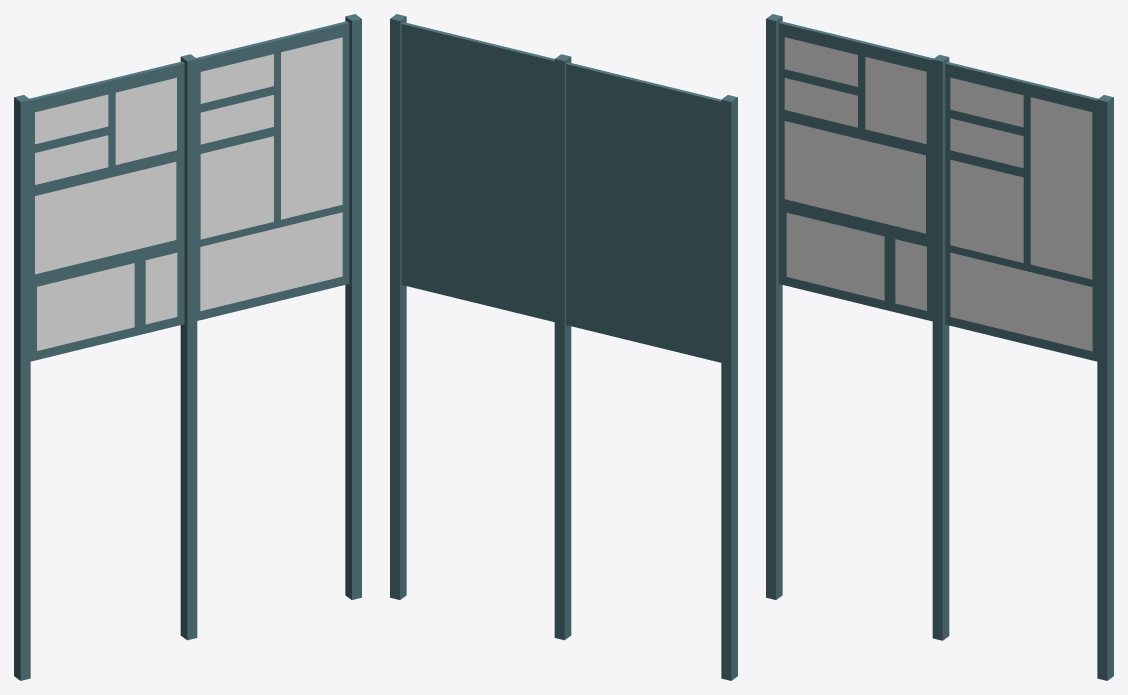
Rendered from Stand.obj.
3 renders of one model, left to right at view 1: azimuth 30°, elevation 25°; view 2: azimuth 150°, elevation 25°; view 3: azimuth 330°, elevation 25°, orthographic.
Visible parts, largest first — view 1: SM_Stand_01; view 2: SM_Stand_01; view 3: SM_Stand_01.
Boxes of the visible parts, x1,y1,x2,y2 form: SM_Stand_01: (14, 14, 361, 680); SM_Stand_01: (390, 14, 737, 680); SM_Stand_01: (766, 14, 1113, 680).
Bounding box in the file's own units: 0.9902 × 1.61 × 0.0327.
